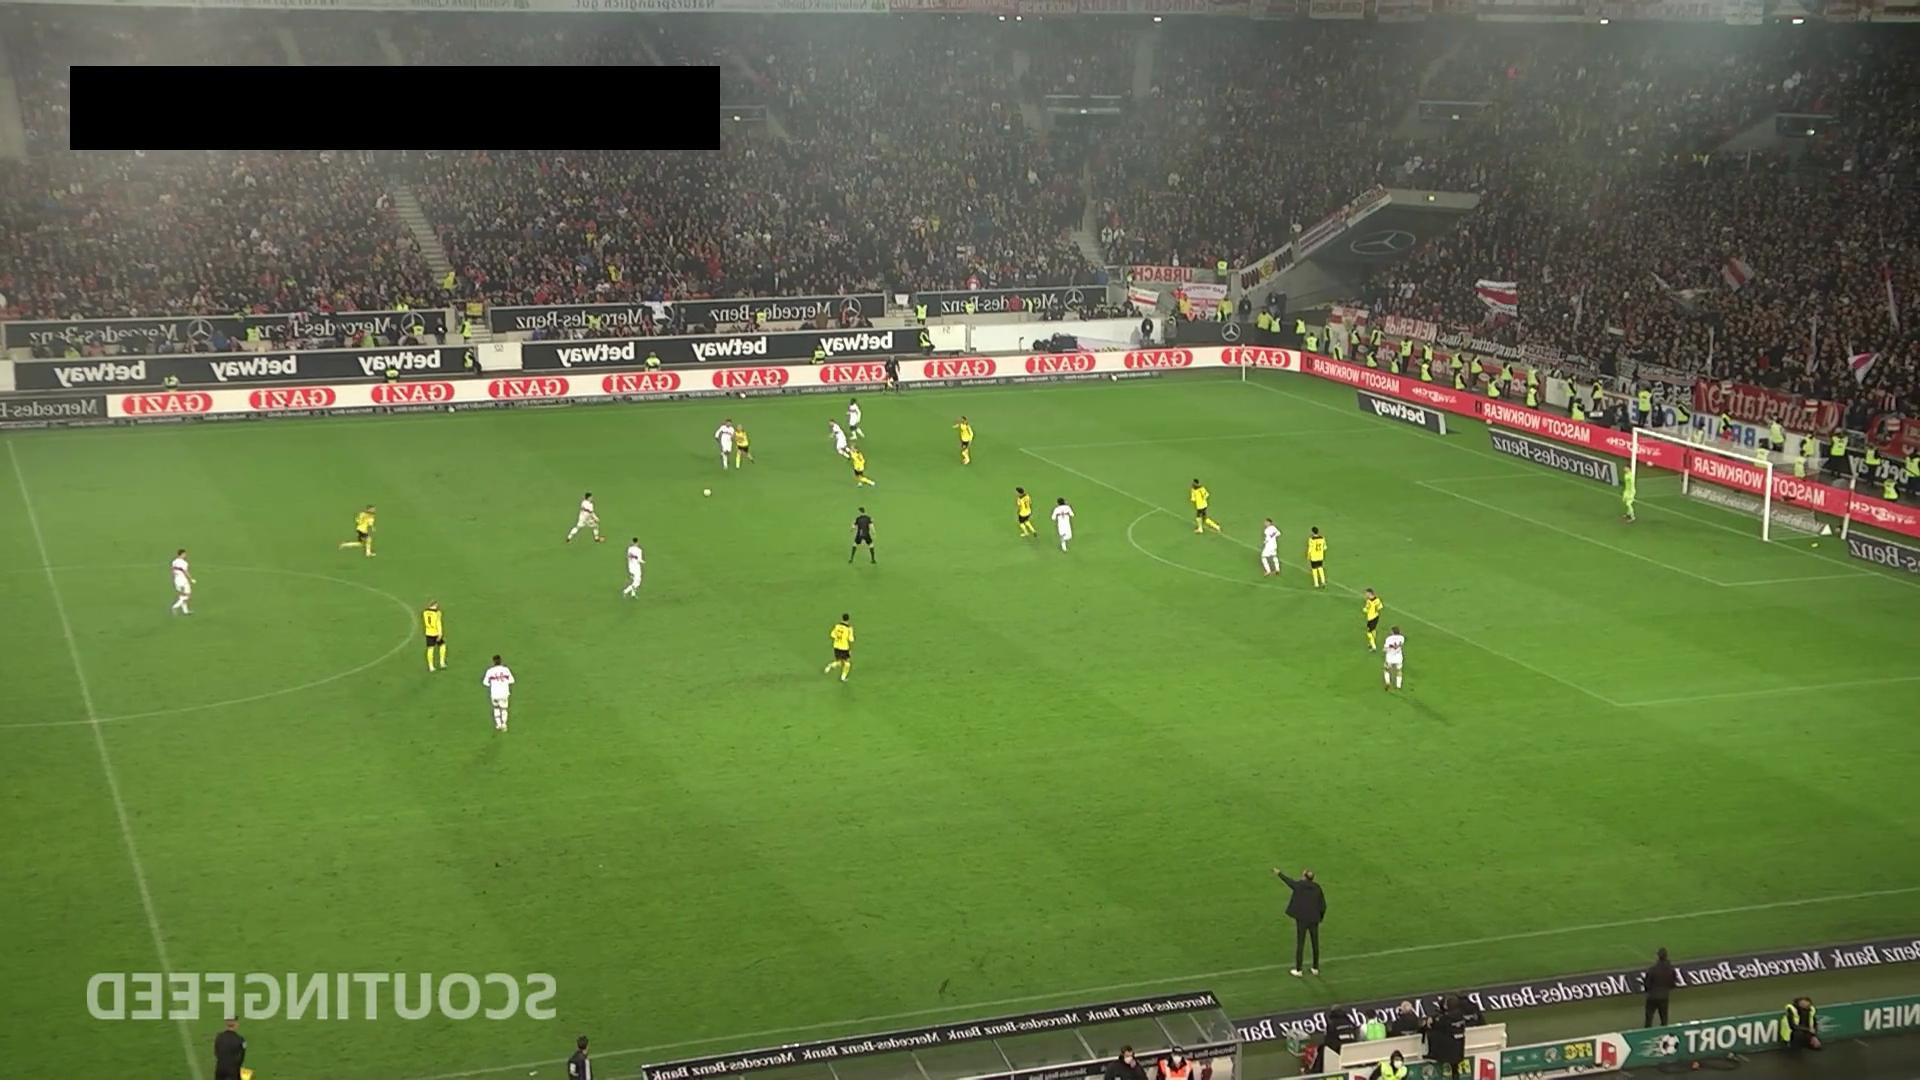ball: (702, 488, 712, 498)
goalkeeper: (1619, 463, 1640, 524)
player: (482, 653, 516, 732), (337, 503, 379, 560), (564, 491, 607, 544), (823, 612, 855, 681), (1188, 479, 1224, 536), (422, 598, 447, 673), (170, 547, 195, 616), (1382, 624, 1406, 691), (622, 536, 646, 599), (847, 440, 877, 488), (1306, 525, 1328, 590), (1050, 496, 1075, 553), (1361, 587, 1383, 651), (826, 417, 856, 461), (1260, 517, 1282, 577), (1014, 486, 1039, 538), (714, 417, 736, 470), (732, 423, 756, 470), (953, 415, 974, 465), (846, 397, 867, 441)
referee: (213, 1016, 255, 1080), (848, 506, 878, 565), (881, 353, 901, 397)
